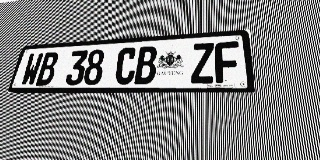3: (64, 50, 89, 85)
8: (82, 49, 106, 85)
B: (134, 46, 158, 84), (35, 52, 60, 86)
C: (114, 47, 138, 85)
F: (215, 41, 241, 83)
W: (20, 53, 44, 86)
Z: (191, 43, 215, 84)
